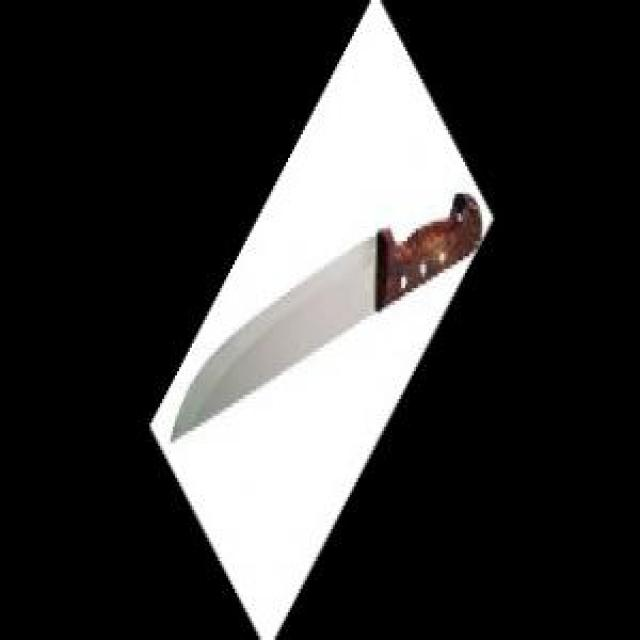knife: (168, 181, 486, 450)
